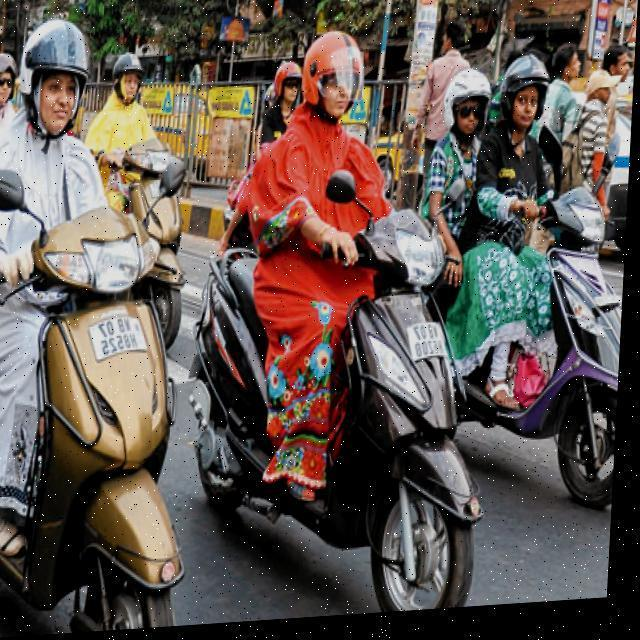Helmet: (12, 12, 98, 154), (293, 23, 375, 142), (490, 59, 560, 150)
